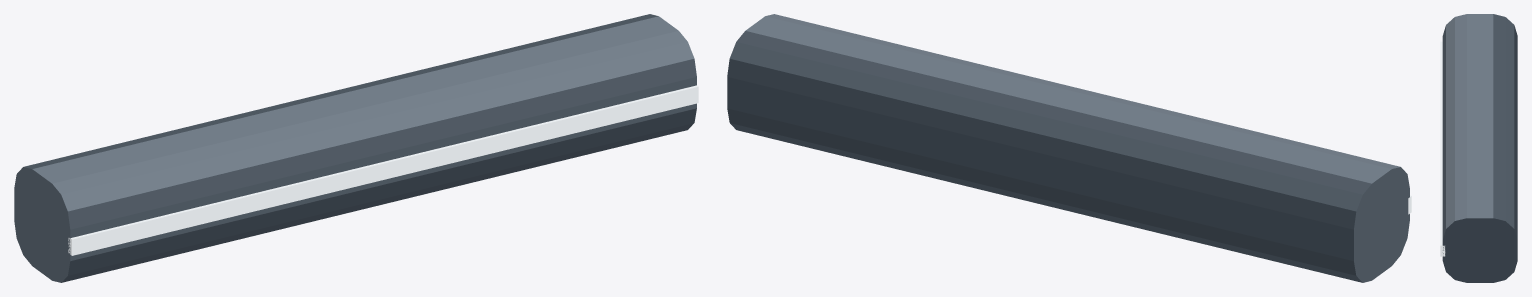
Rendered from Solid_Nose.gltf.
3 views of the same model, side by side, from view 1: azimuth 30°, elevation 25°; view 2: azimuth 150°, elevation 25°; view 3: azimuth 270°, elevation 25° (orthographic). The views are drawn at different scales.
Visible parts, largest first — view 1: Solid_Nose_baked; view 2: Solid_Nose_baked; view 3: Solid_Nose_baked.
Part boxes in pixels (box(x1,y1,x2,y2)): Solid_Nose_baked: box(14, 14, 698, 282); Solid_Nose_baked: box(727, 14, 1411, 282); Solid_Nose_baked: box(1440, 14, 1517, 282).
Size of the model in its own units: 1 by 0.148 by 0.16.
